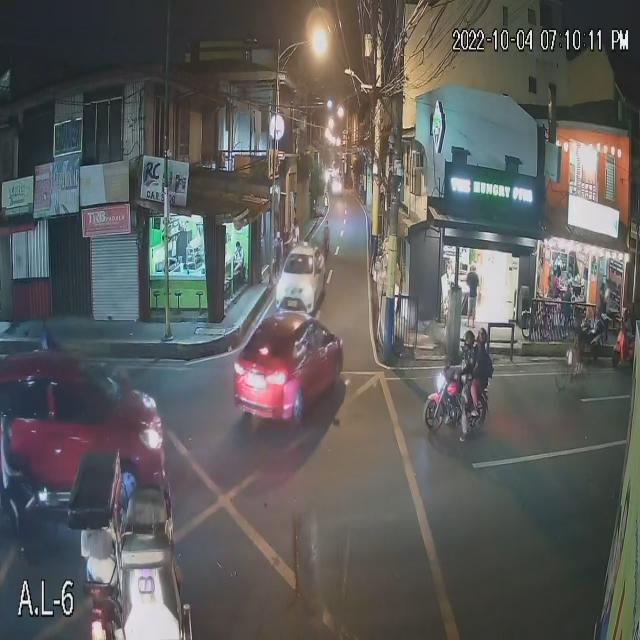helmet: (458, 328, 476, 351), (476, 328, 492, 348)
motorcycle: (423, 363, 489, 441)
rider: (447, 350, 478, 440), (466, 350, 493, 417)
